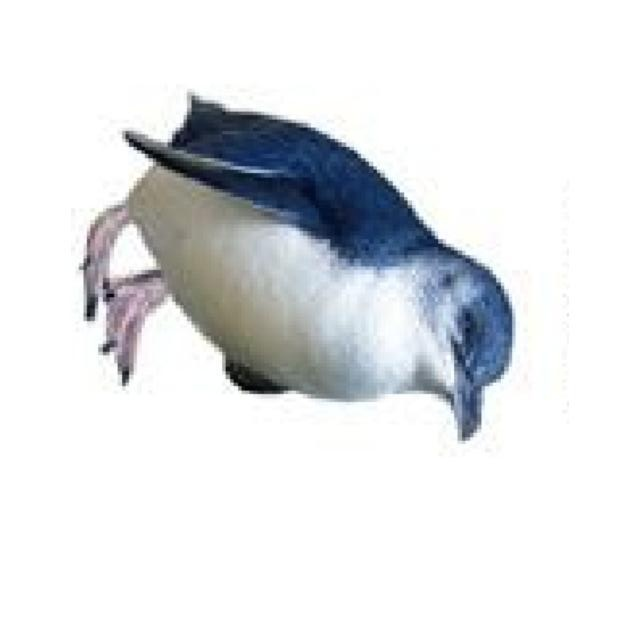penguin: (79, 91, 516, 442)
